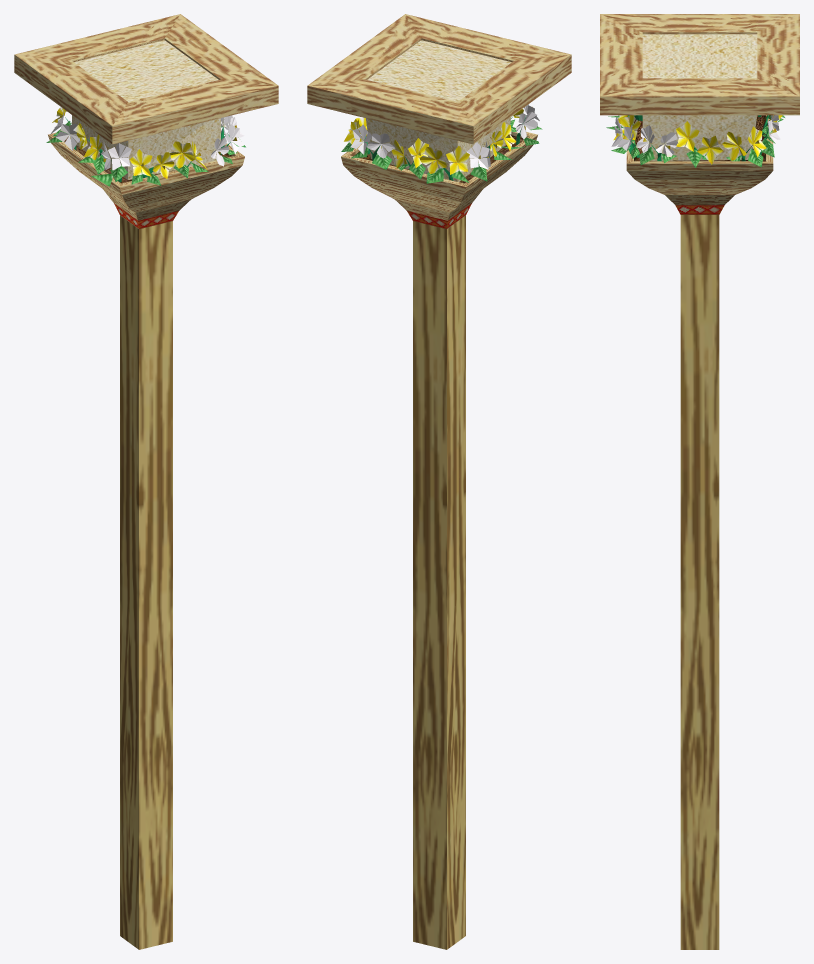
File: lampbianco.dae
The picture shows the model from 3 angles, left to right: view 1: azimuth 30°, elevation 25°; view 2: azimuth 150°, elevation 25°; view 3: azimuth 270°, elevation 25°; orthographic projection. The views are drawn at different scales.
Visible parts, largest first — view 1: m0; view 2: m0; view 3: m0.
Boxes of the visible parts, x1,y1,x2,y2 form: m0: (14, 14, 278, 949); m0: (307, 14, 571, 949); m0: (600, 14, 799, 949).
Bounding box in the file's own units: 500 × 2498 × 511.
Materials: 1 (1 with a texture image).
